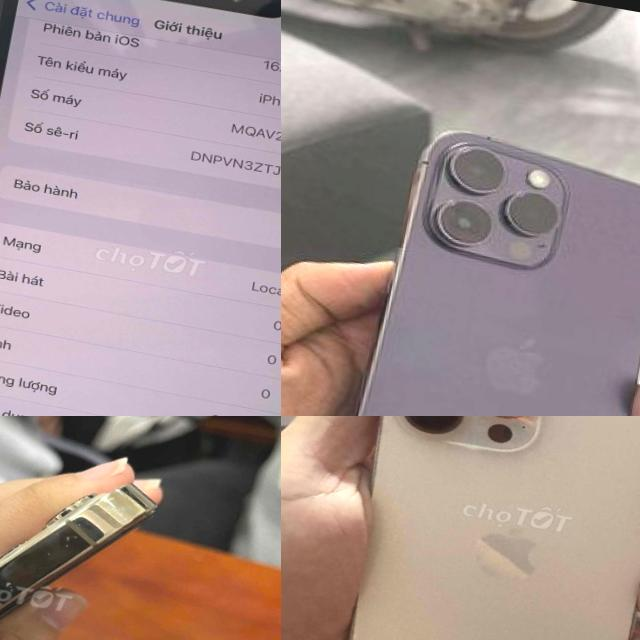scratch: (0, 503, 103, 628)
